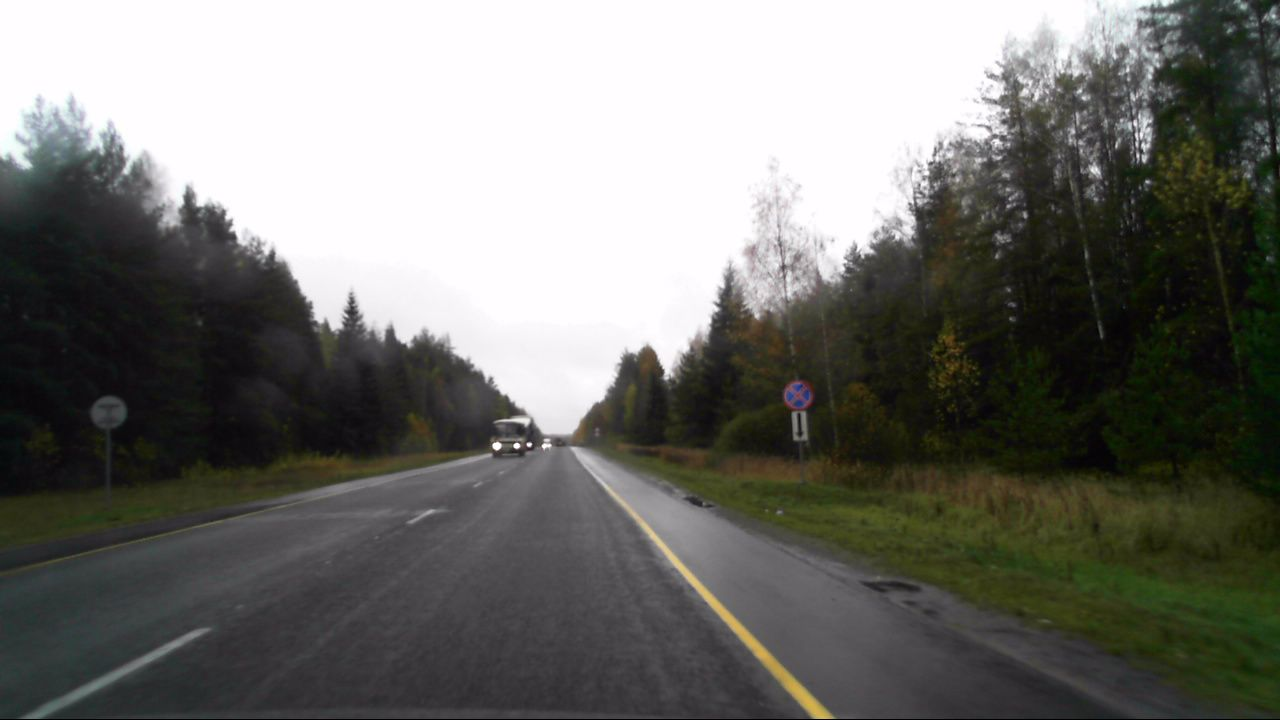No Parking: (784, 381, 809, 407)
